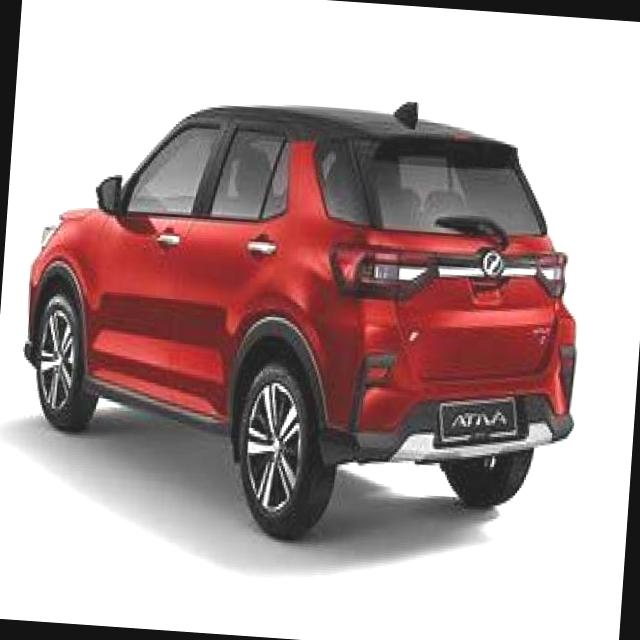PeroduaAtiva: (9, 73, 596, 560)
